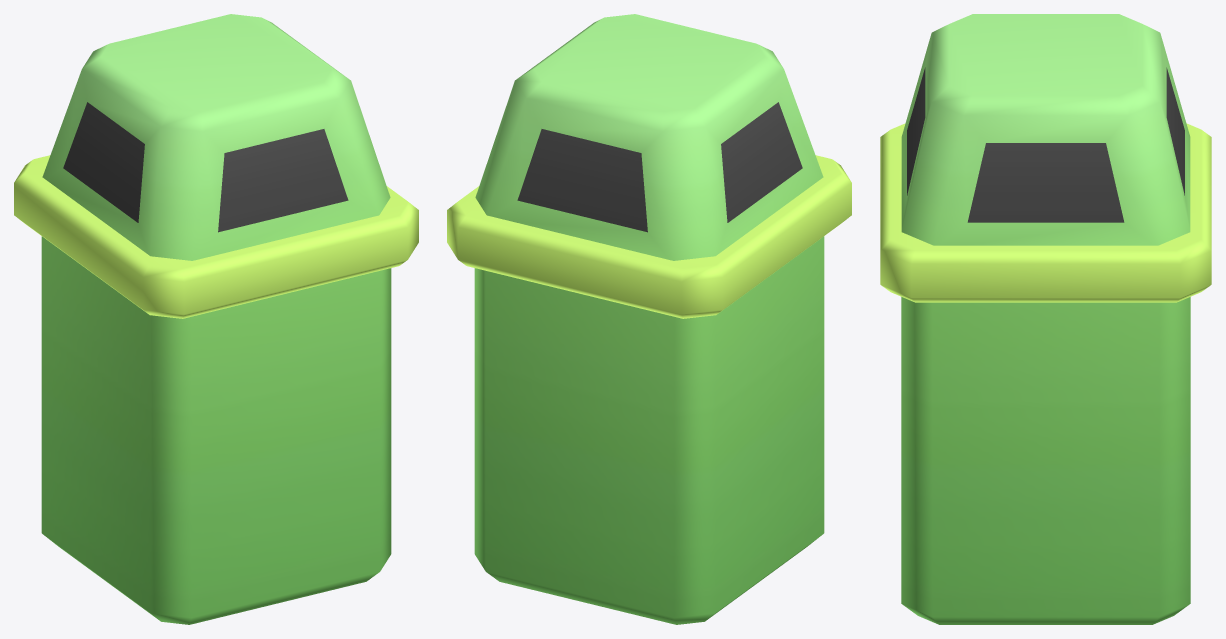
The model's file is city2-trash-can-02.glb.
The picture shows the model from 3 angles, left to right: view 1: azimuth 30°, elevation 25°; view 2: azimuth 150°, elevation 25°; view 3: azimuth 270°, elevation 25°; orthographic projection. The views are drawn at different scales.
Parts seen in each view (by area): view 1: Trash_Can_02; view 2: Trash_Can_02; view 3: Trash_Can_02.
Part boxes in pixels (x1,y1,x2,y2): Trash_Can_02: (14,14,418,624); Trash_Can_02: (447,14,851,624); Trash_Can_02: (880,14,1211,624).
Bounding box in the file's own units: 0.5099 × 0.8757 × 0.5099.
1 material, 1 textured.
